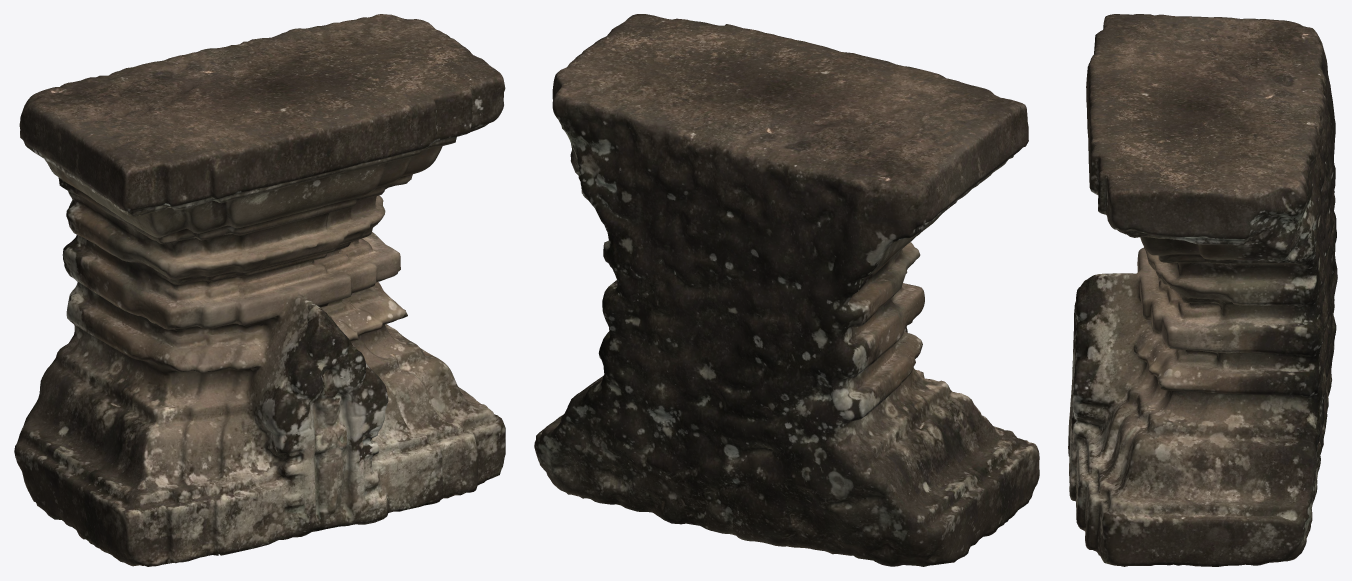
File: 03_MysonSanctuaryD_Vattrangtrichantru_final.glb
The picture shows the model from 3 angles, left to right: view 1: azimuth 30°, elevation 25°; view 2: azimuth 150°, elevation 25°; view 3: azimuth 270°, elevation 25°; orthographic projection. The views are drawn at different scales.
Bounding box in the file's own units: 1.12 × 1.07 × 0.6898.
1 material, 1 textured.
